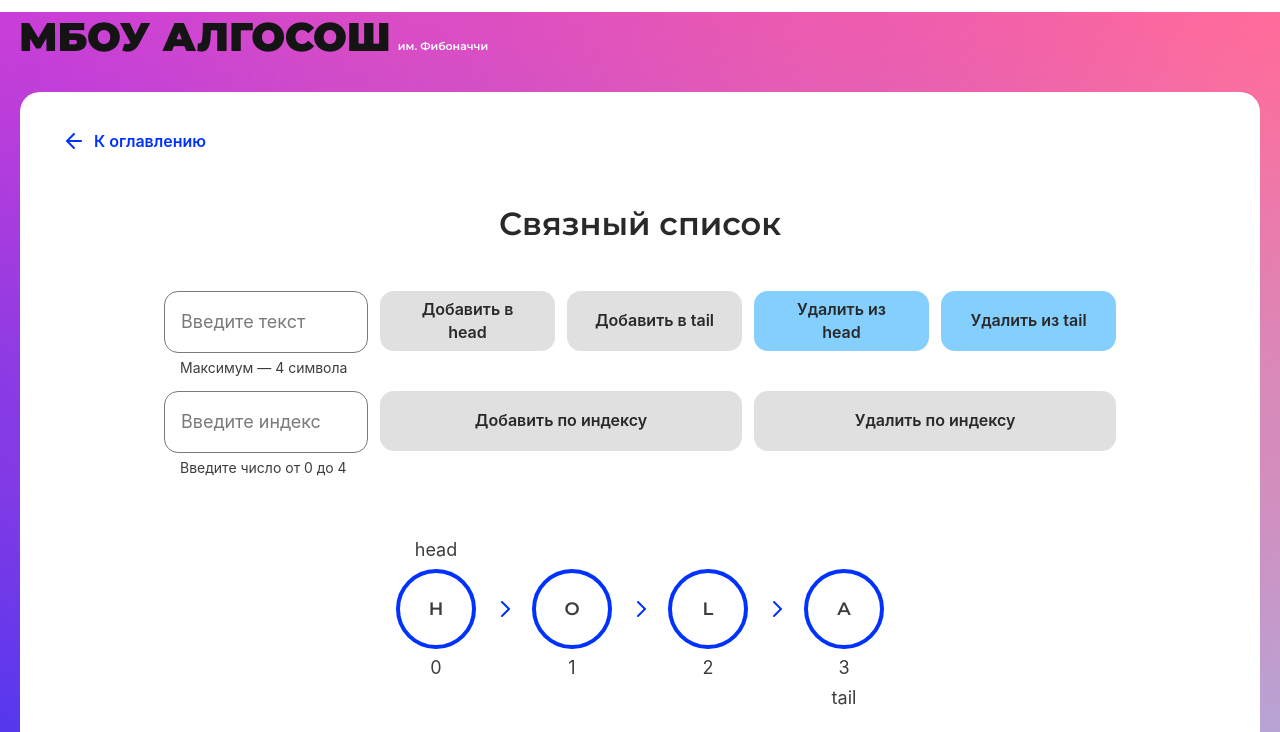
List page › should visualize an element adding by index correctly
Type "1" into the field with test id "value-input" at [266, 322], box [164,291,368,353]
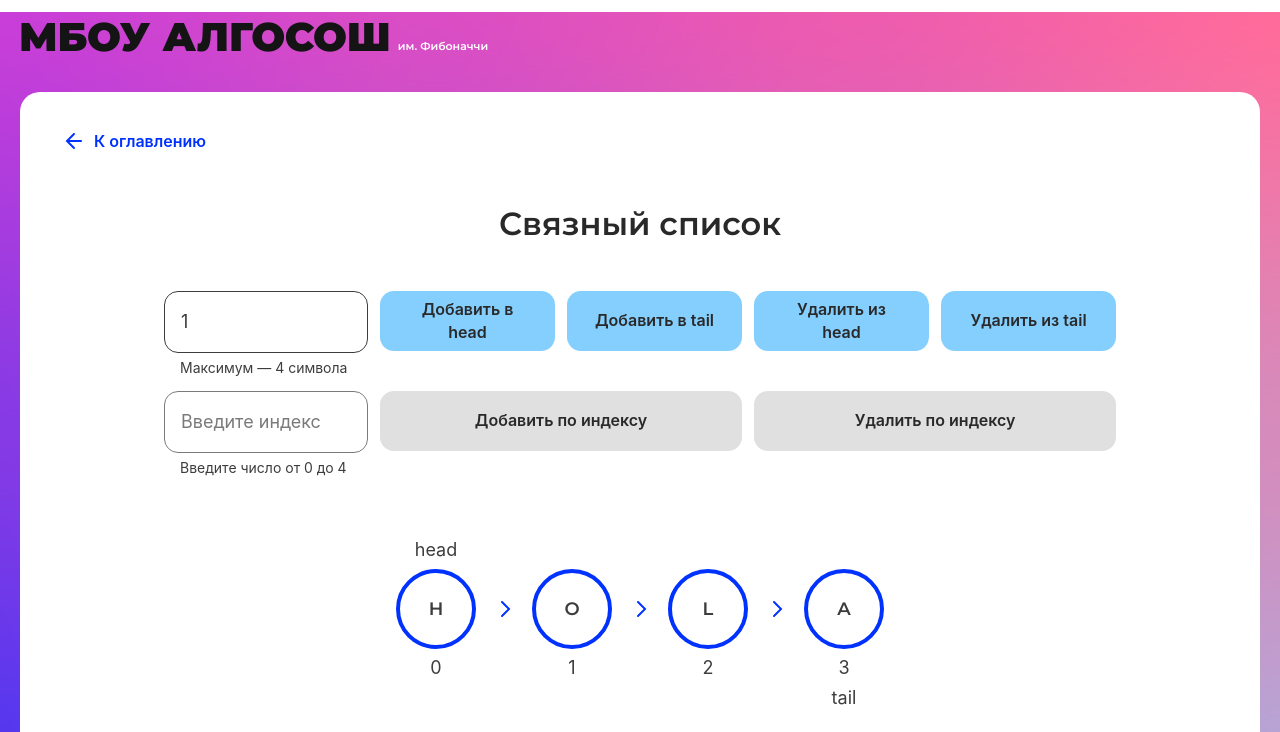
Type "2" into the number field with test id "index-input" at [266, 422], box [164,391,368,453]
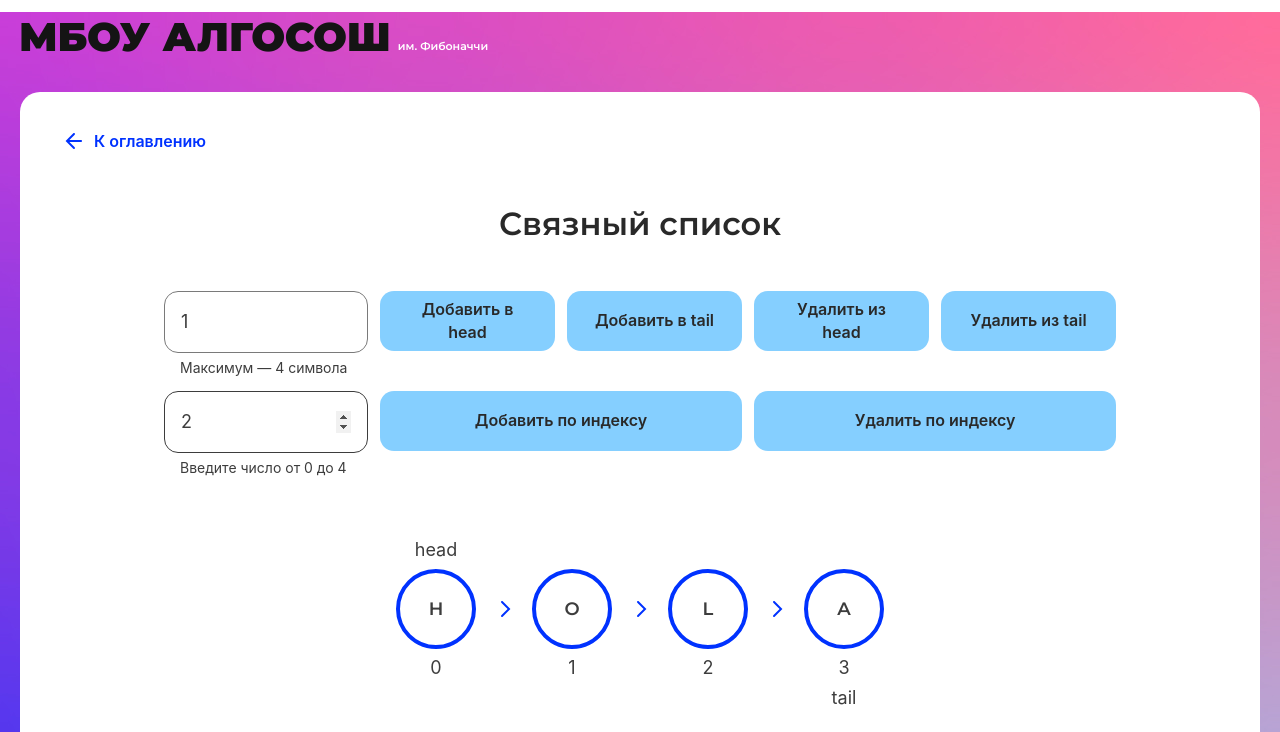
Click the button with test id "add-index-button" at [561, 421], box [380,391,742,451]
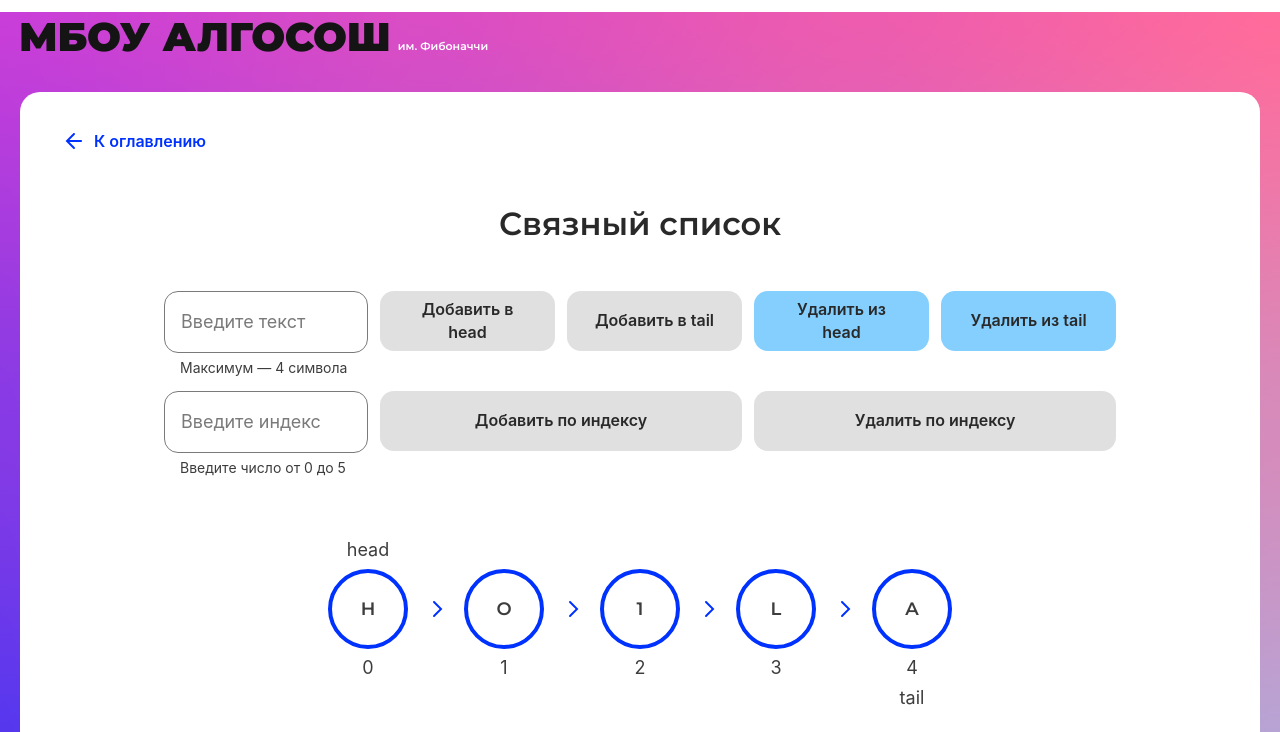
Expected: the text with test id "head" reads "head", [347,539,389,560]
Expected: the text with test id "circle-core" reads "1", [637,598,644,620]
Expected: the number of elements with test id "circle-core" is 5, [328,569,408,649]; [464,569,544,649]; [600,569,680,649]; [736,569,816,649]; [872,569,952,649]
